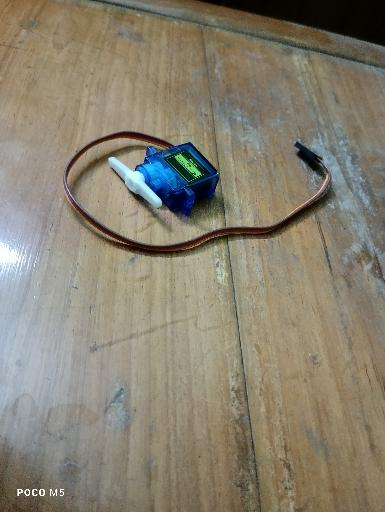Motor: (108, 141, 221, 218)
